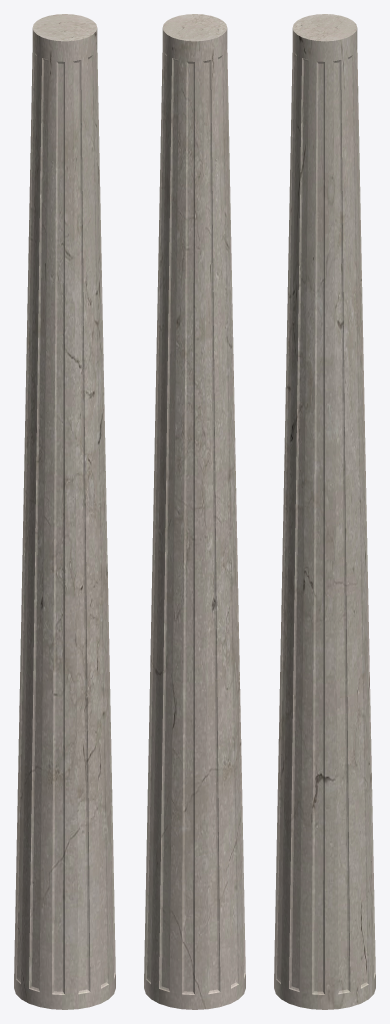
The model's file is marble_tile_212.fbx.
3 views of the same model, side by side, from view 1: azimuth 90°, elevation 25°; view 2: azimuth 150°, elevation 25°; view 3: azimuth 330°, elevation 25° (orthographic).
Visible parts, largest first — view 1: marble_tile_212; view 2: marble_tile_212; view 3: marble_tile_212.
Boxes of the visible parts, bbox=[...] form: marble_tile_212: bbox=[14, 14, 115, 1009]; marble_tile_212: bbox=[144, 14, 245, 1009]; marble_tile_212: bbox=[274, 14, 375, 1009].
Bounding box in the file's own units: 31.48 × 328 × 31.48.
